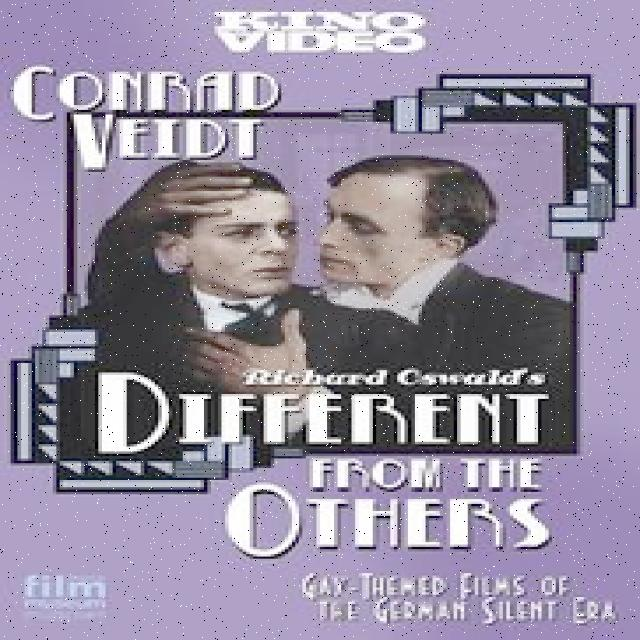movie-judul: (75, 370, 606, 562)
picture: (122, 159, 566, 375)
